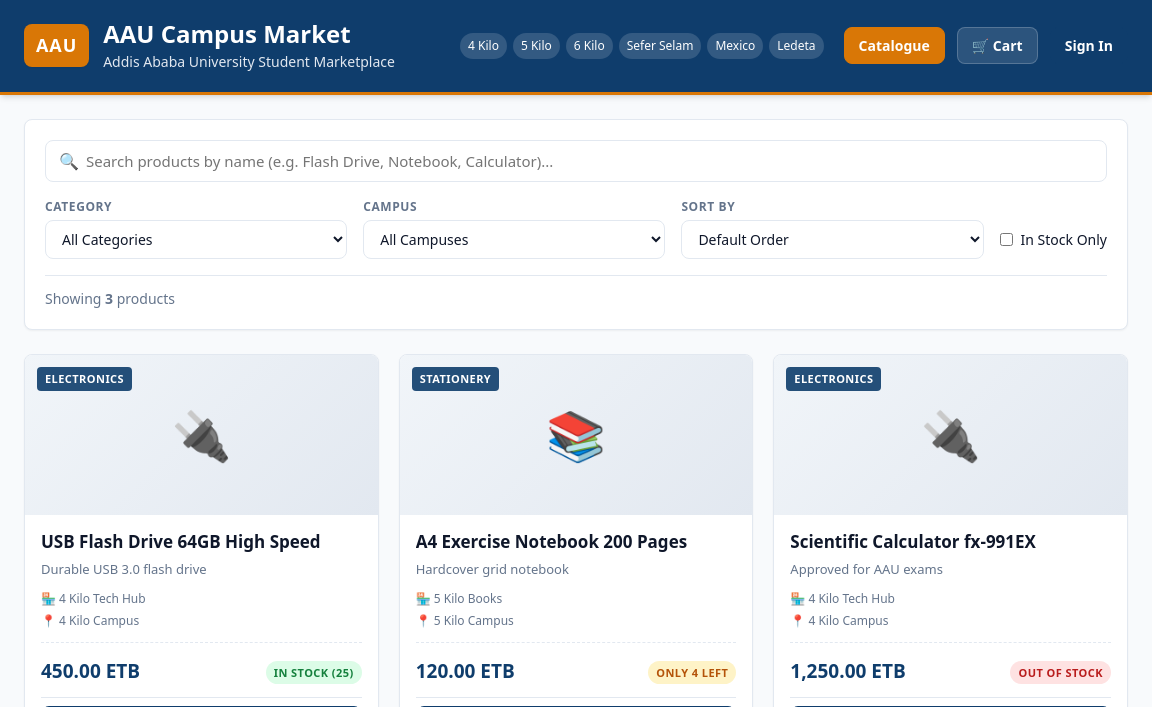
it: App Component - Product Catalogue & Interaction › filters products by in-stock only
Expected: the heading "Scientific Calculator fx-991EX" is shown, x1=790 y1=530 x2=1036 y2=553
Check "In Stock Only" checkbox
Click the checkbox labelled "In Stock Only" at (1006, 240), box x1=1000 y1=233 x2=1013 y2=246
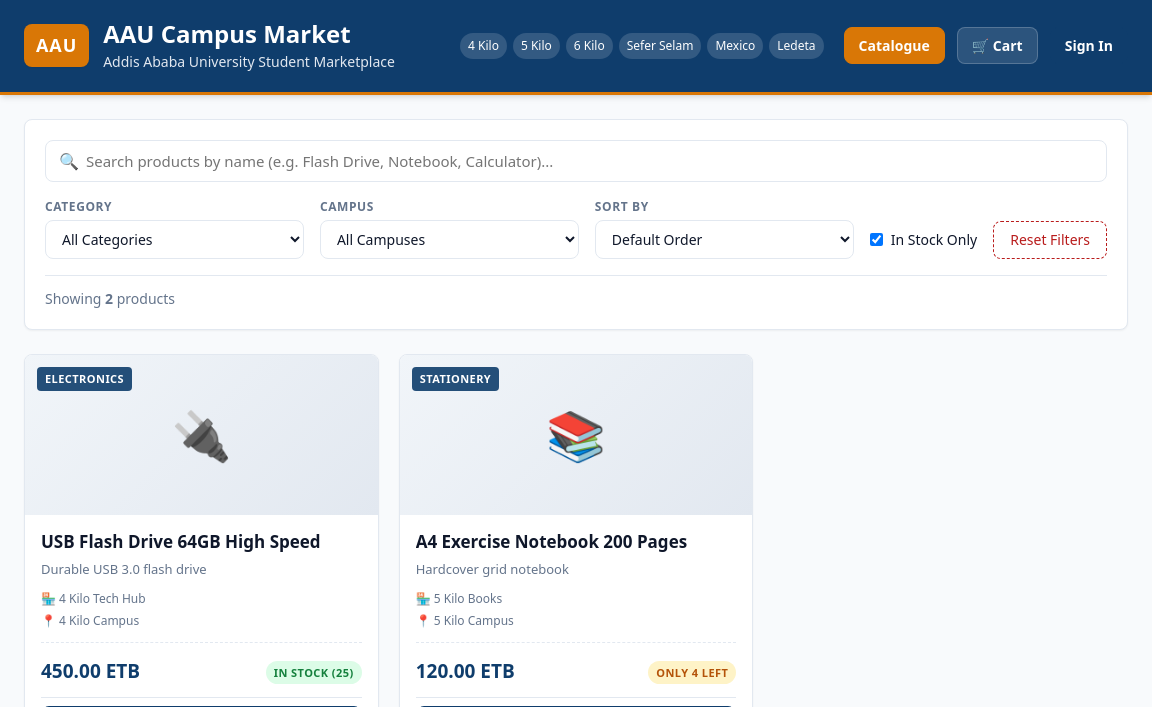
Expected: the heading "USB Flash Drive 64GB High Speed" is shown, x1=41 y1=531 x2=362 y2=554
Expected: the button "Scientific Calculator fx-991EX" is gone
Expected: the text "Showing 2 products" is shown, x1=45 y1=289 x2=175 y2=308
